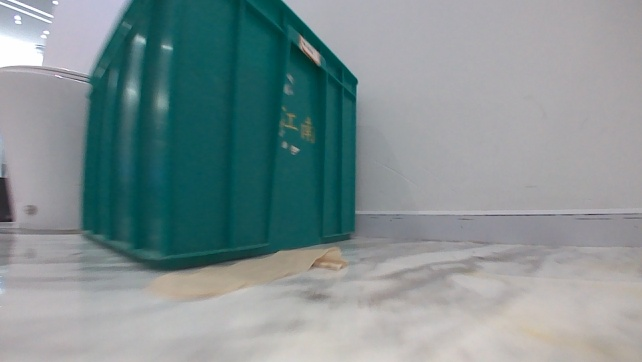socks: (145, 244, 350, 306)
toilet: (0, 62, 91, 237)
